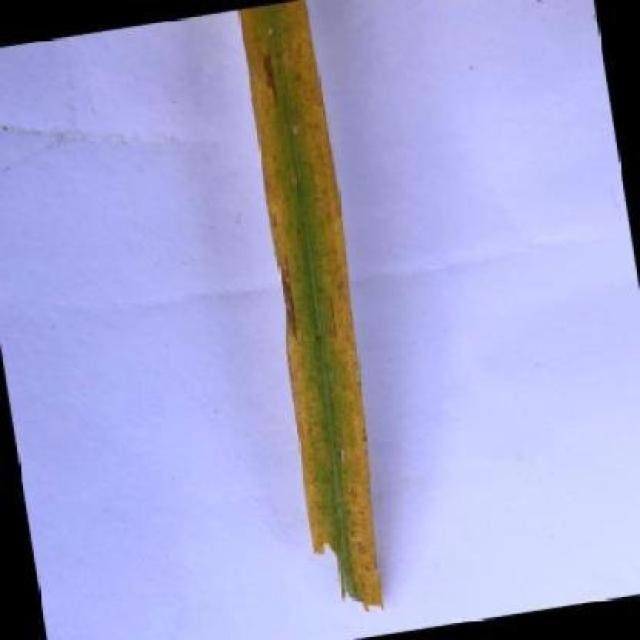Rice False Smut: (226, 10, 405, 632)
